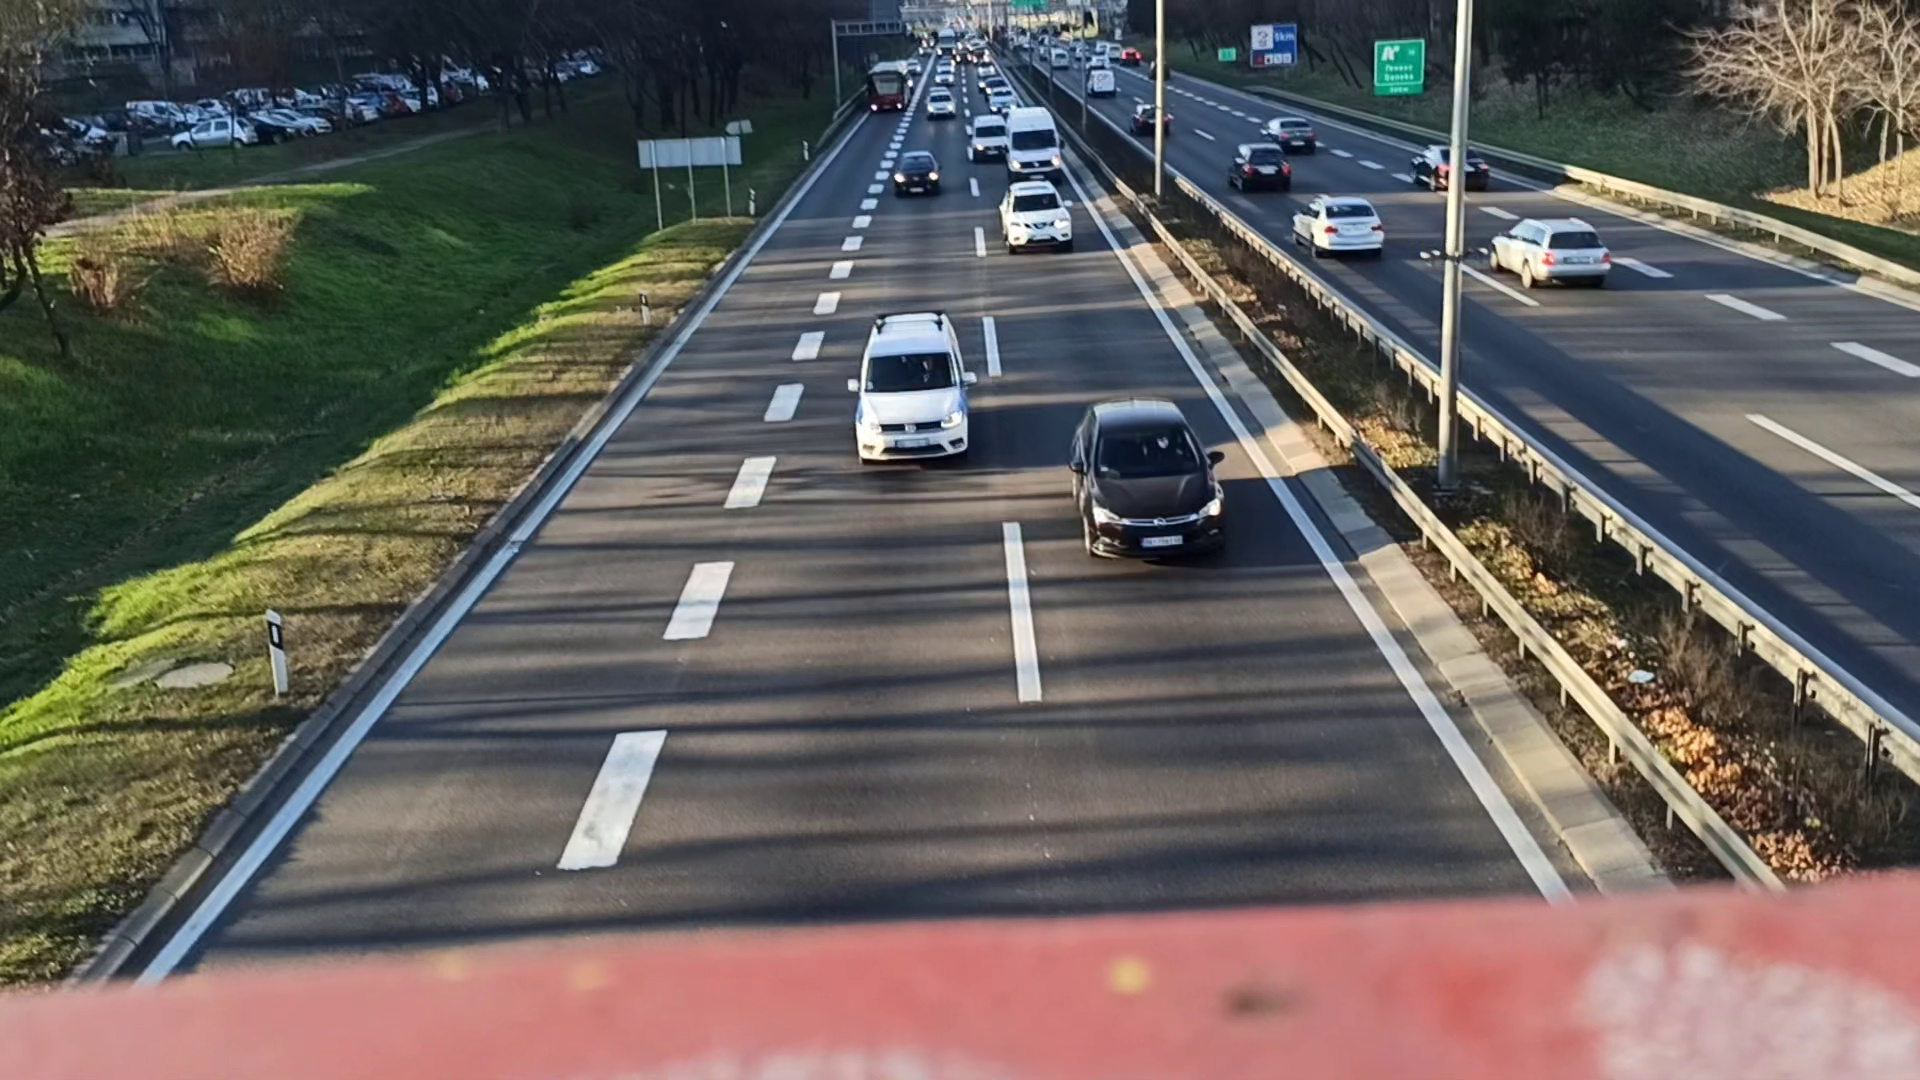bus: (864, 59, 909, 113)
car: (1069, 397, 1225, 566), (1490, 214, 1613, 290), (1295, 196, 1385, 256), (997, 185, 1069, 252), (1232, 142, 1286, 194), (890, 150, 942, 202), (1261, 117, 1317, 150), (926, 88, 952, 116)
van: (855, 309, 973, 460), (1005, 104, 1062, 179), (973, 113, 1009, 162)
